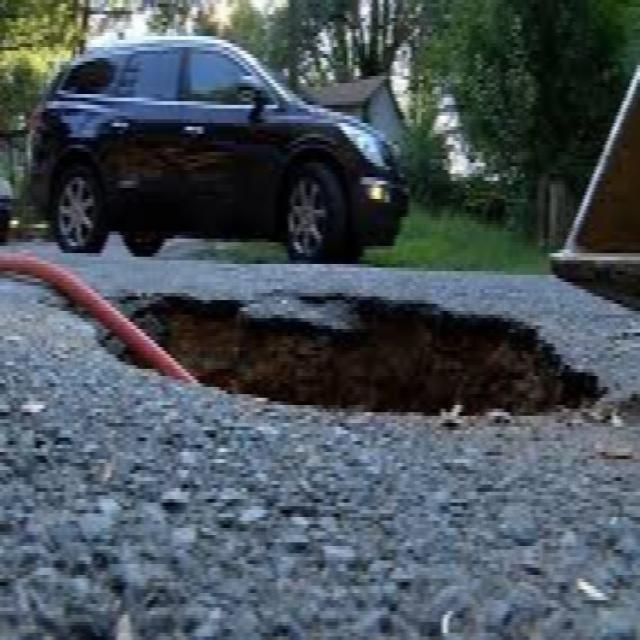Pothole: (75, 278, 611, 436)
